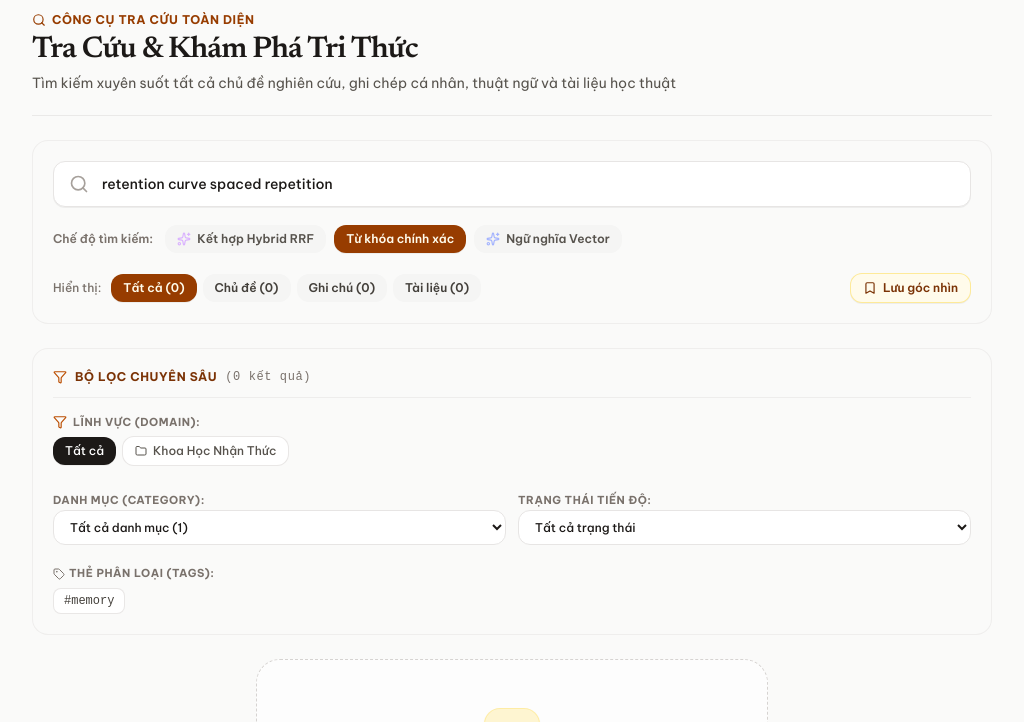
Phase 5B: Hybrid Vector Search & Grounded RAG Copilot UI Integration › AdvancedSearch: Hybrid Vector & BM25 Search UI › switches to semantic or hybrid mode and surfaces semantic similarity badges for conceptually related notes
This screenshot has width=1024, height=722.
// Switch to hybrid search
Click the button with test id "btn-search-mode-hybrid": (246, 239) [165, 225, 326, 253]
(page scrolled)
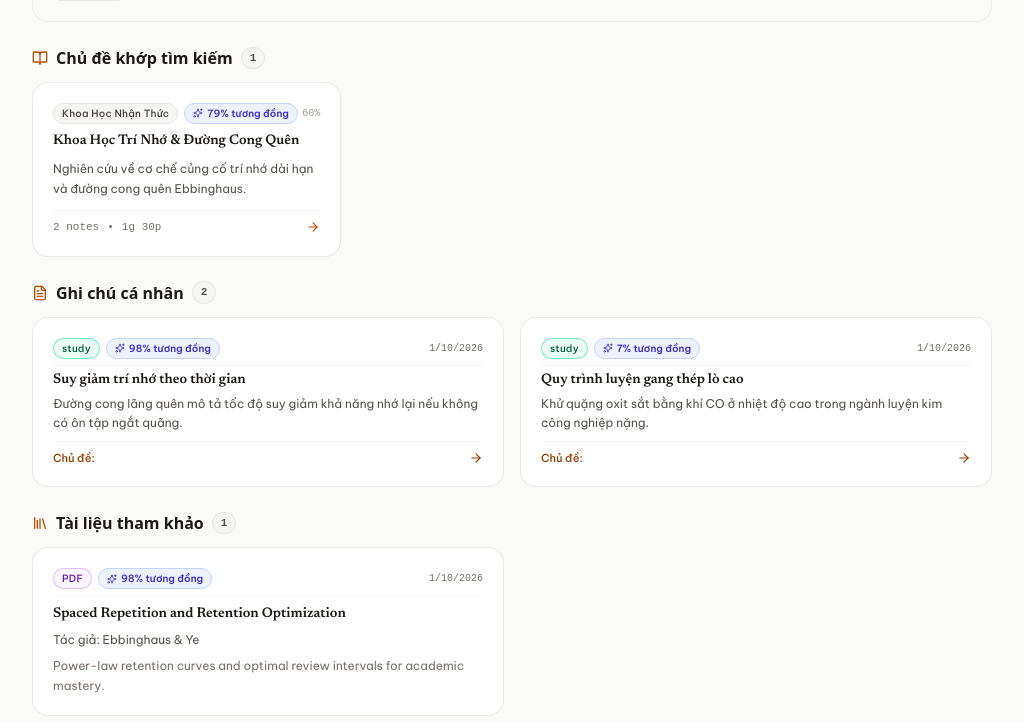
Now the element with test id "semantic-similarity-badge" is shown, box [184, 103, 298, 124]
Now the element with test id "semantic-similarity-badge" shows "% tương đồng", box [220, 107, 289, 120]
Now the heading "Suy giảm trí nhớ theo thời gian" is shown, box [53, 372, 246, 386]
